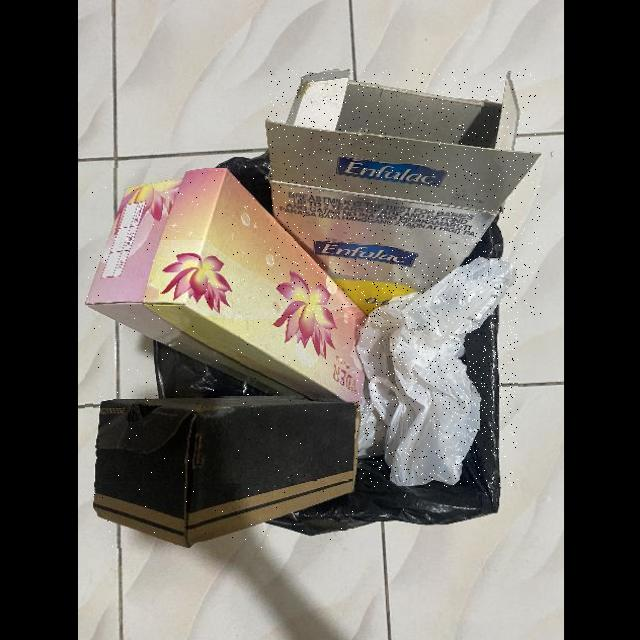paper: (86, 168, 374, 413), (267, 69, 541, 318), (94, 398, 362, 548)
plastic: (357, 258, 518, 487)
